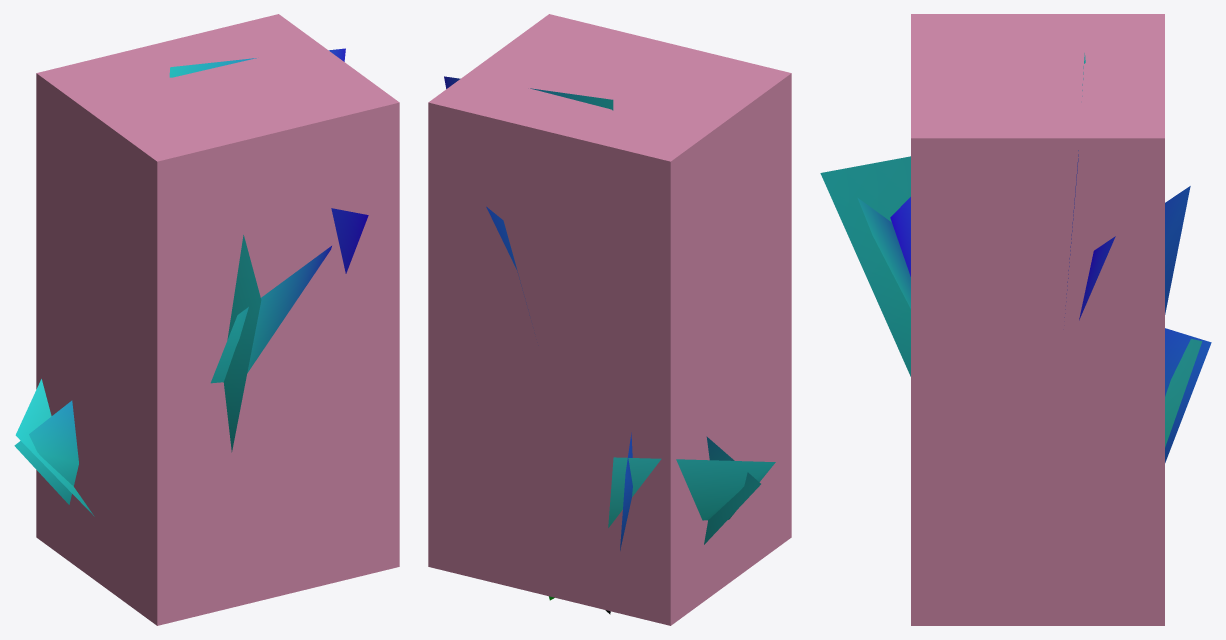
Rendered from lush_grass_01_b.dae.
The picture shows the model from 3 angles, left to right: view 1: azimuth 30°, elevation 25°; view 2: azimuth 150°, elevation 25°; view 3: azimuth 270°, elevation 25°; orthographic projection. The views are drawn at different scales.
Parts seen in each view (by area): view 1: Untitled, tree_oak_bush_a80; view 2: Untitled, tree_oak_bush_a80; view 3: Untitled, tree_oak_bush_a80.
Boxes of the visible parts, x1,y1,x2,y2 form: Untitled: (36, 14, 399, 625); tree_oak_bush_a80: (14, 48, 368, 516); Untitled: (428, 14, 791, 625); tree_oak_bush_a80: (444, 76, 775, 614); Untitled: (911, 14, 1164, 625); tree_oak_bush_a80: (820, 53, 1211, 462).
Bounding box in the file's own units: 1.12 × 1.1 × 1.63.
